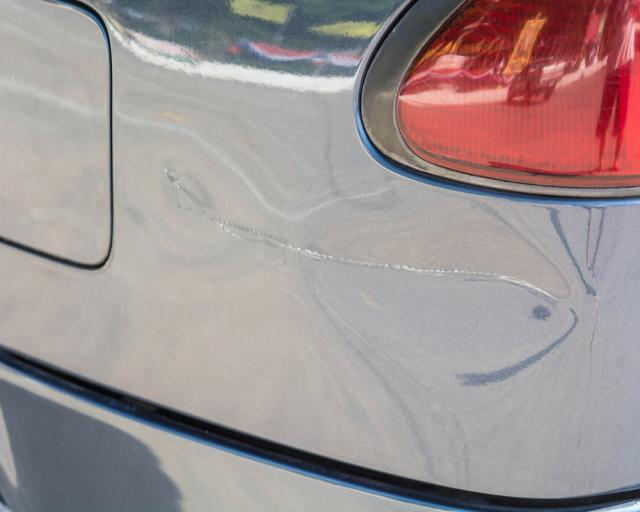dent: (135, 141, 571, 396)
